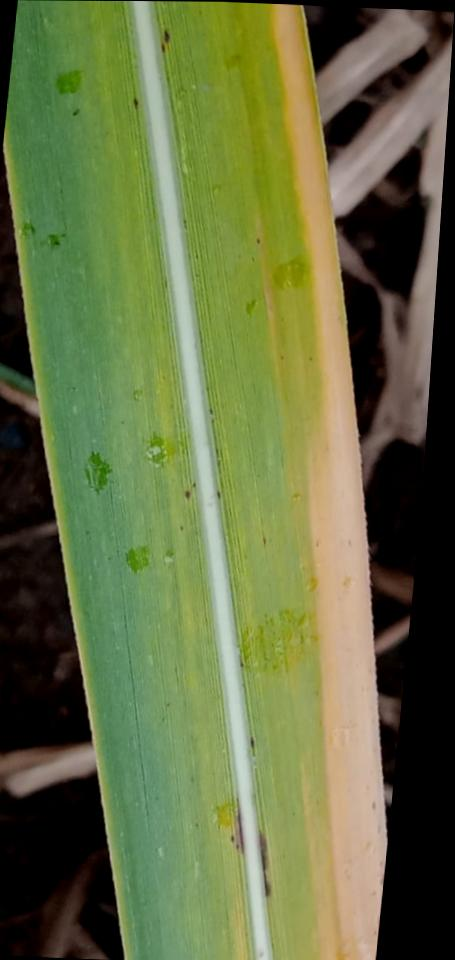Rust: (255, 828, 272, 899), (234, 797, 245, 855), (162, 27, 171, 45), (69, 106, 81, 117), (131, 95, 139, 111), (248, 735, 256, 749), (258, 533, 267, 545), (183, 490, 192, 501), (276, 353, 286, 362), (177, 524, 187, 532), (160, 42, 166, 54), (215, 489, 221, 500), (305, 354, 313, 362), (255, 236, 261, 245), (230, 834, 234, 843), (190, 482, 196, 488), (234, 843, 238, 850)
Yellow: (271, 4, 383, 960)
